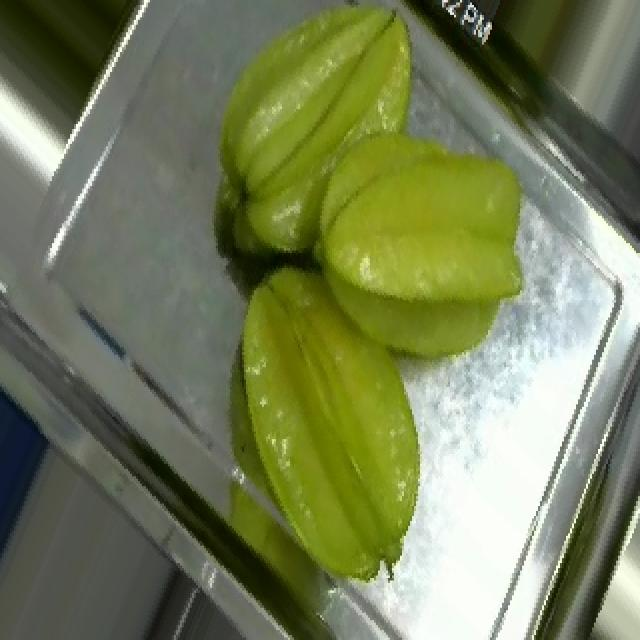fruit: (174, 226, 490, 620), (260, 70, 572, 414), (178, 0, 476, 283), (0, 0, 174, 154)
